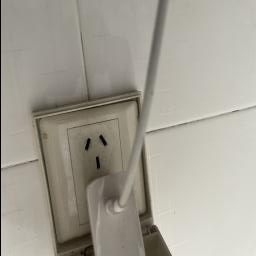outlet: (14, 99, 179, 252)
